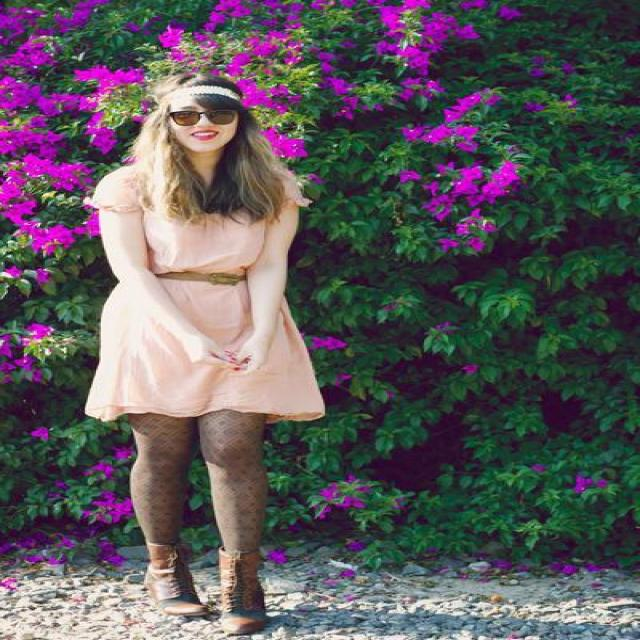dress: (83, 175, 323, 420)
shoe: (126, 550, 285, 639)
sunglass: (165, 106, 200, 133)
